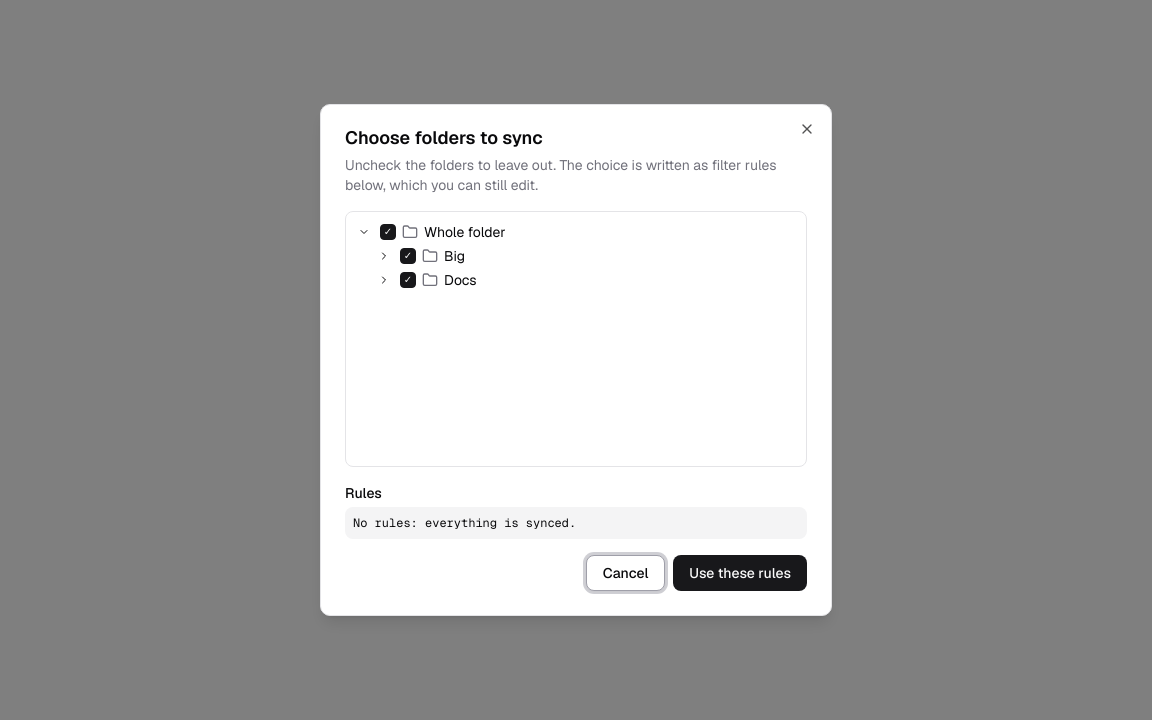
Test case: FolderRulesDialog › hides an opened folder again without reloading it
Click the button named "Show folders in Big": (384,256) [374,246,394,266]
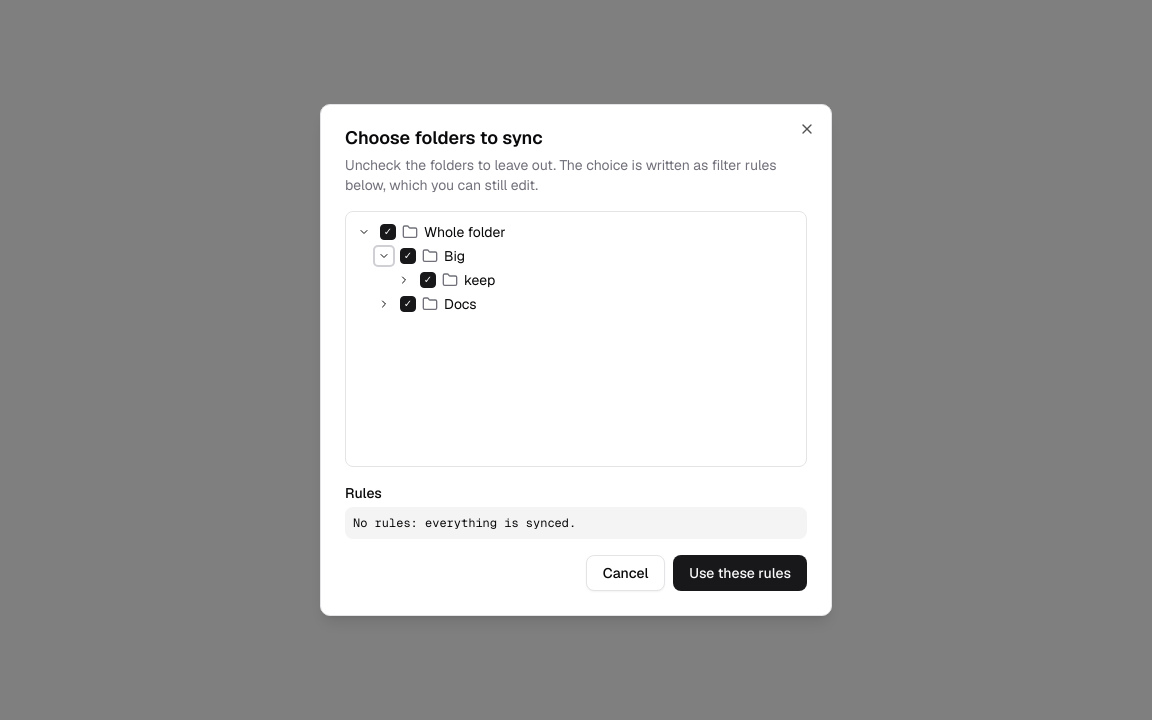
Now the checkbox named "keep" is shown, box [420,272,436,288]
Click the button named "Hide folders in Big": (384,256) [374,246,394,266]
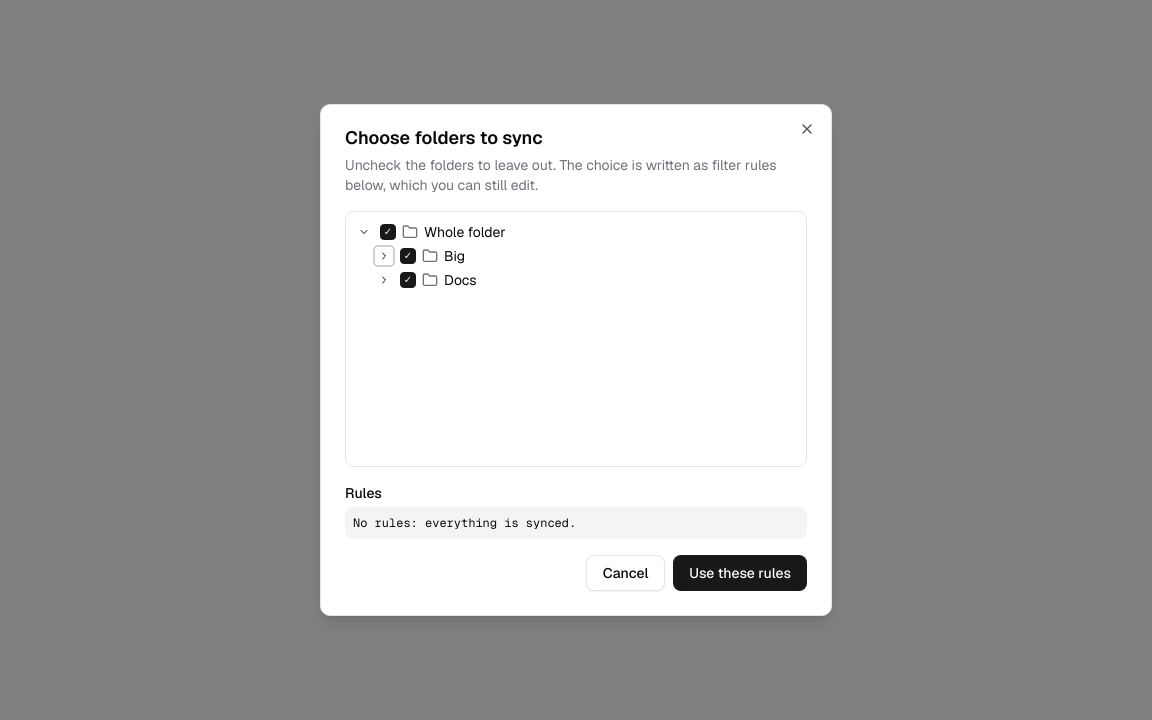
Now the text "keep" is gone
Click the button named "Show folders in Big": (384,256) [374,246,394,266]
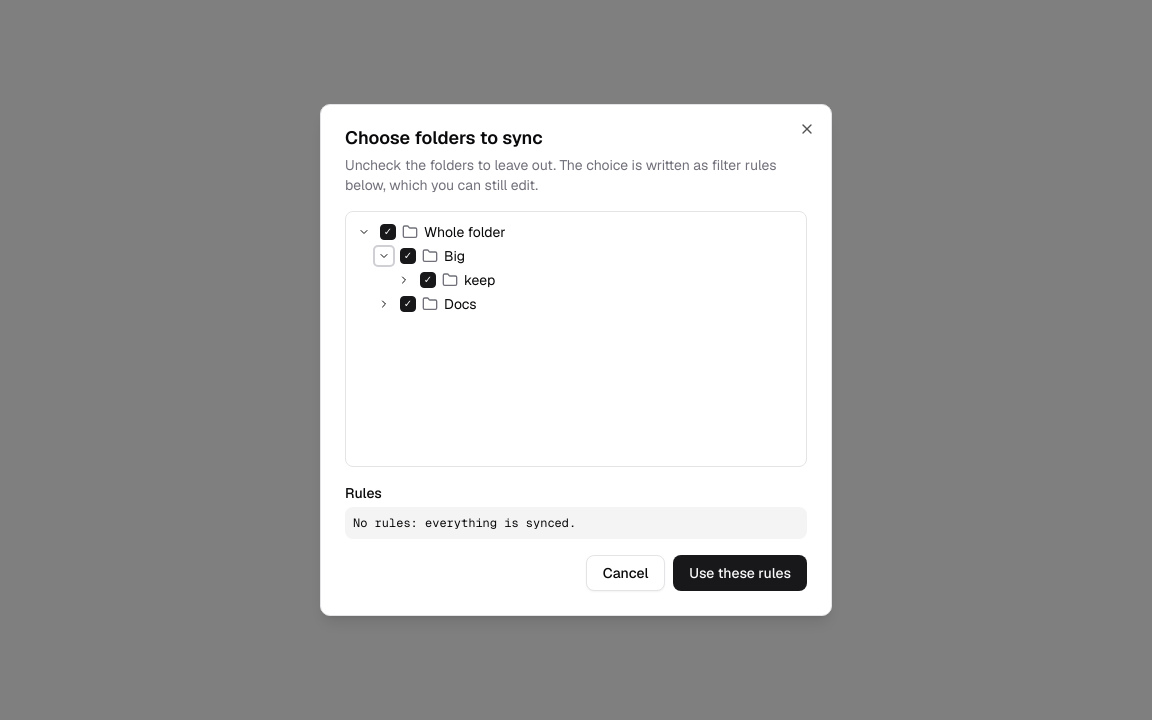
Now the checkbox named "keep" is shown, box [420,272,436,288]
